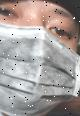with_mask: (1, 2, 80, 116)
